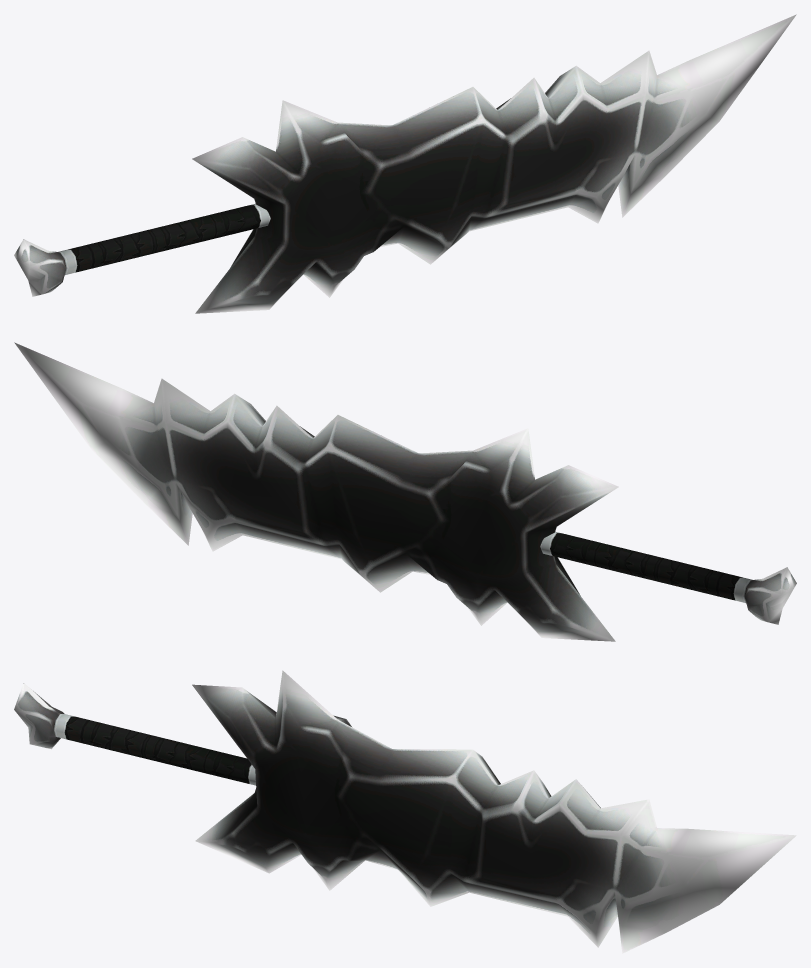
Rendered from item_weaswtmgm2501-et07.glb.
3 renders of one model, top to bottom at view 1: azimuth 30°, elevation 25°; view 2: azimuth 150°, elevation 25°; view 3: azimuth 330°, elevation 25°, orthographic.
Visible parts, largest first — view 1: FlyffMesh; view 2: FlyffMesh; view 3: FlyffMesh.
Part boxes in pixels (x1,y1,x2,y2): FlyffMesh: [14, 14, 796, 313]; FlyffMesh: [14, 342, 796, 641]; FlyffMesh: [14, 670, 796, 953].
Bounding box in the file's own units: 2.15 × 0.5514 × 0.1482.
Materials: 1 (1 with a texture image).
